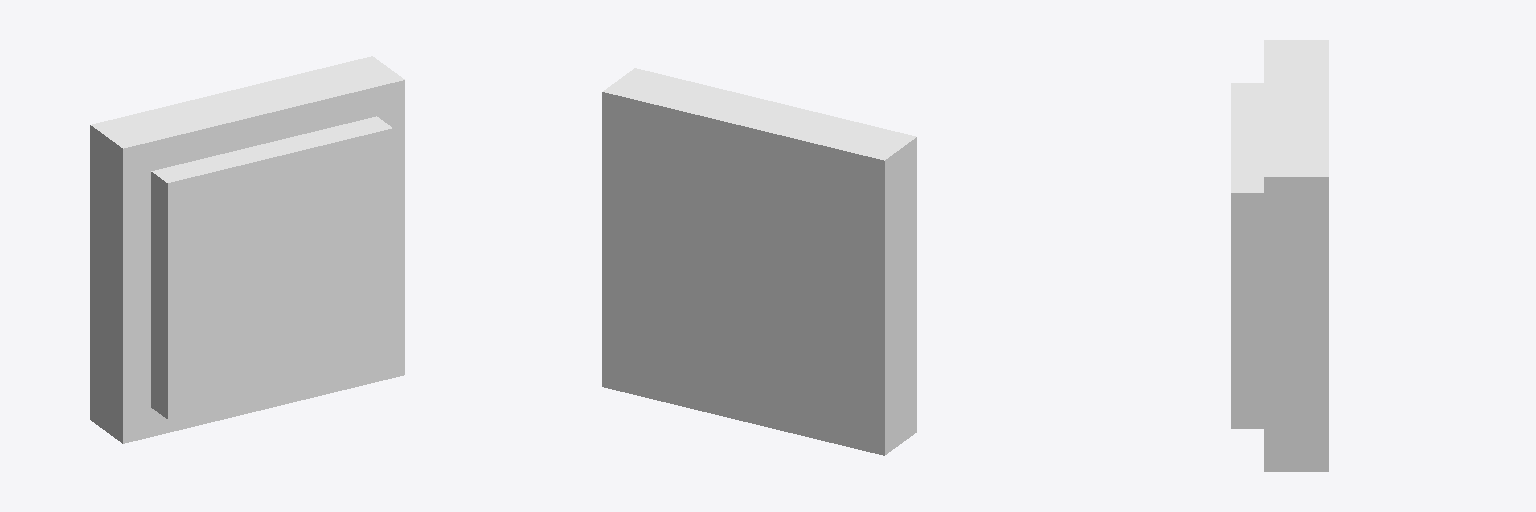
The model's file is switchOn.obj.
3 renders of one model, left to right at view 1: azimuth 30°, elevation 25°; view 2: azimuth 150°, elevation 25°; view 3: azimuth 270°, elevation 25°, orthographic.
Parts seen in each view (by area): view 1: object 1; view 2: object 1; view 3: object 1.
Boxes of the visible parts, x1=… form: object 1: x1=90, y1=56, x2=404, y2=443; object 1: x1=602, y1=68, x2=916, y2=455; object 1: x1=1231, y1=40, x2=1328, y2=471.
Size of the model in its own units: 1 by 1 by 0.3.